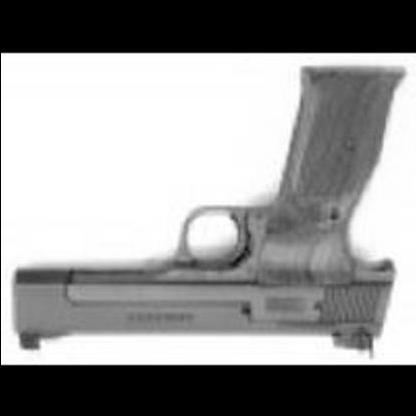weapon: (9, 61, 406, 359)
